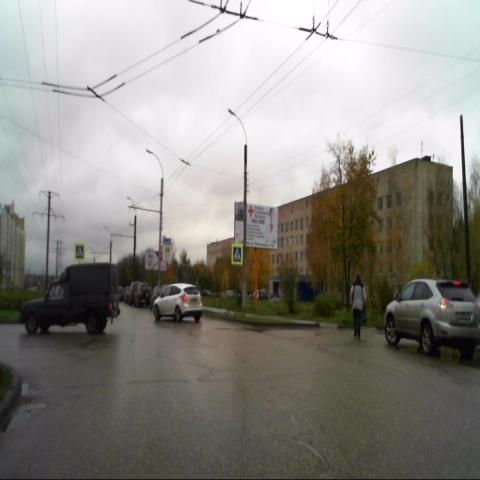5_19_1: (230, 243, 243, 266), (73, 241, 85, 261)
